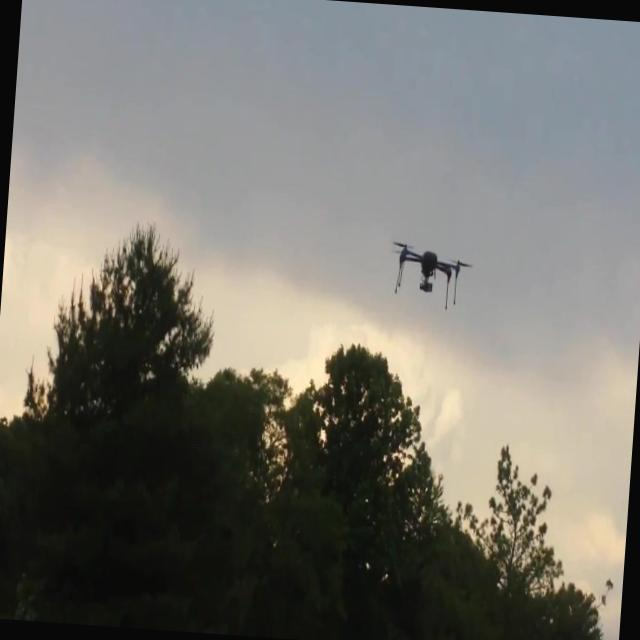drone: (385, 238, 470, 314)
